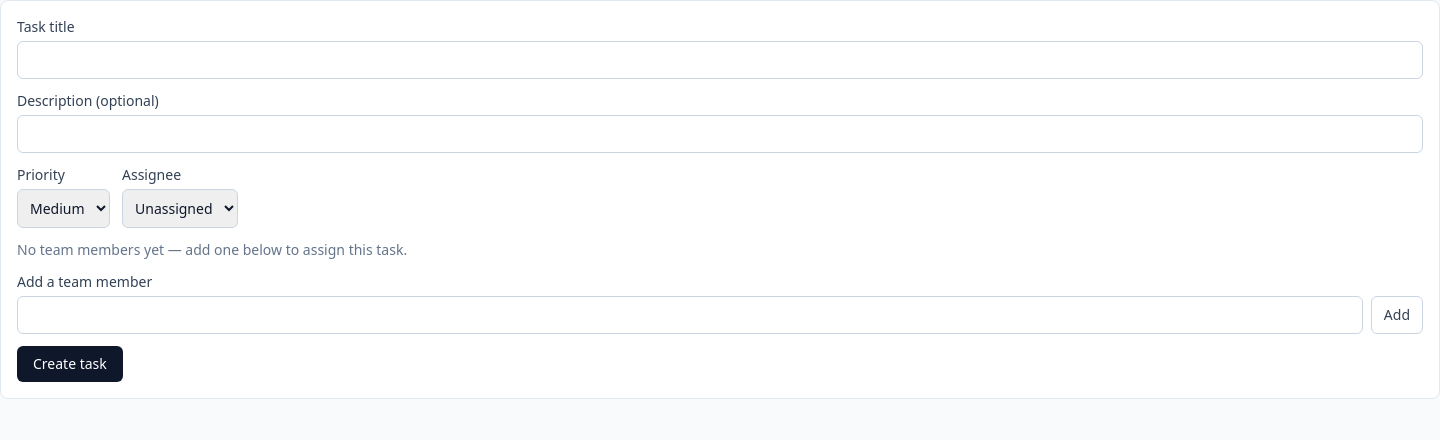
CreateTaskForm › shows a validation message when submitted with a blank title
What coordinates should you click on to do the following:
click the button "Create task"
I would click on:
 (70, 364)
Its box is [17, 346, 123, 382].
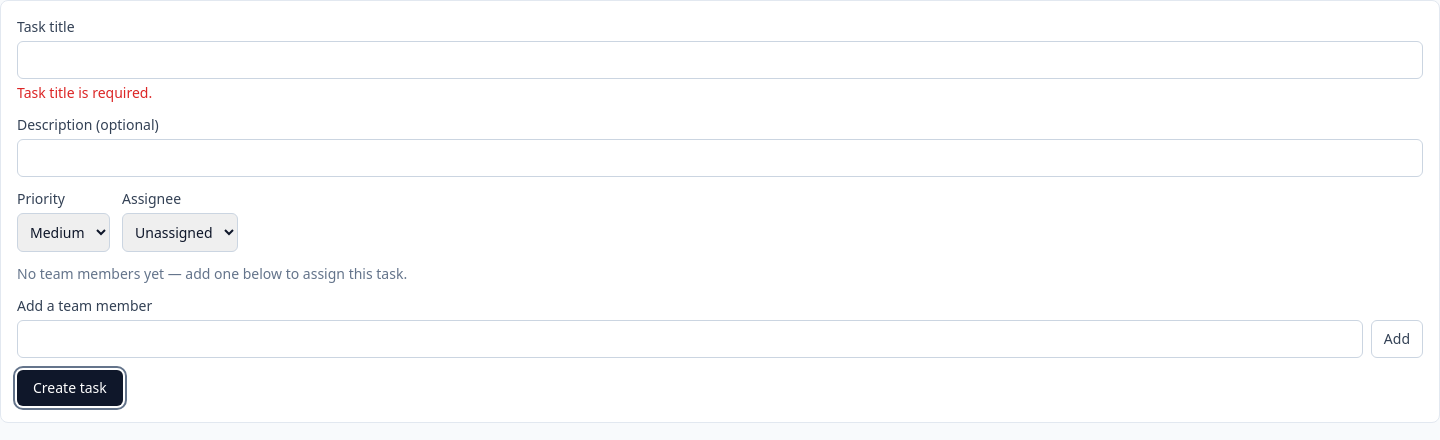
Expected: the message shows "Task title is required", [17, 83, 152, 102]
